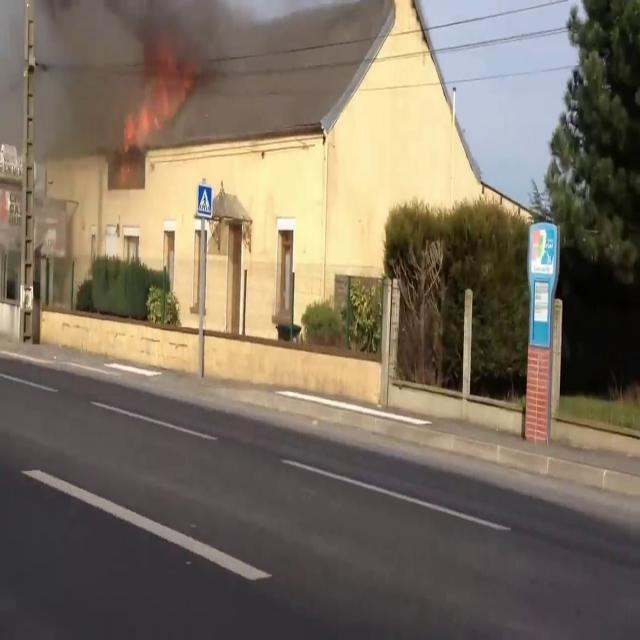Fire: (122, 42, 194, 147)
Smoke: (8, 0, 232, 153)
